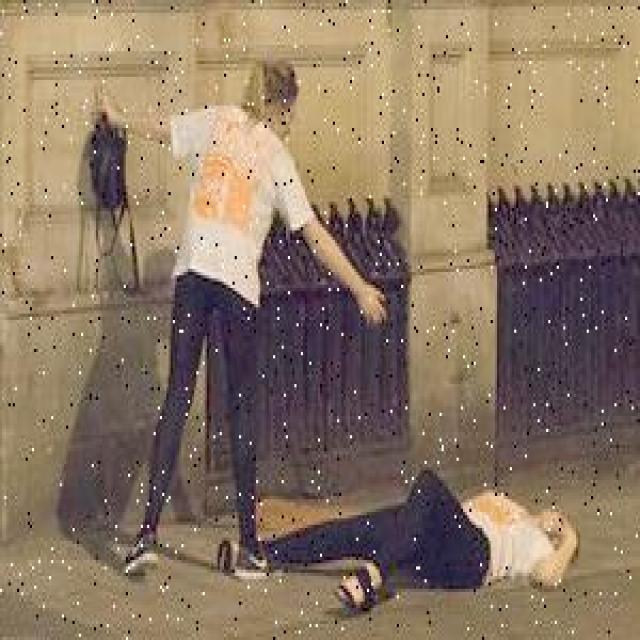fall: (269, 480, 582, 611)
